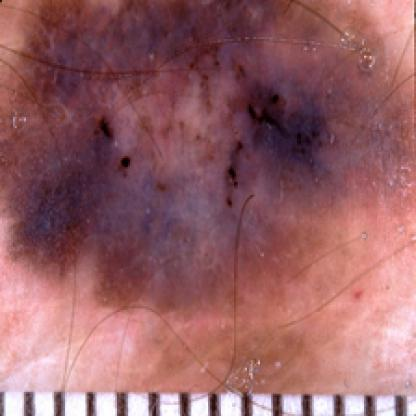malignant: (17, 2, 384, 306)
